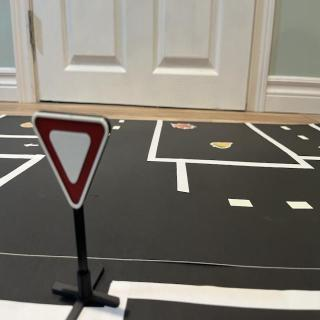road_oneway: (23, 142, 41, 151)
sign_yield: (32, 113, 112, 211)
